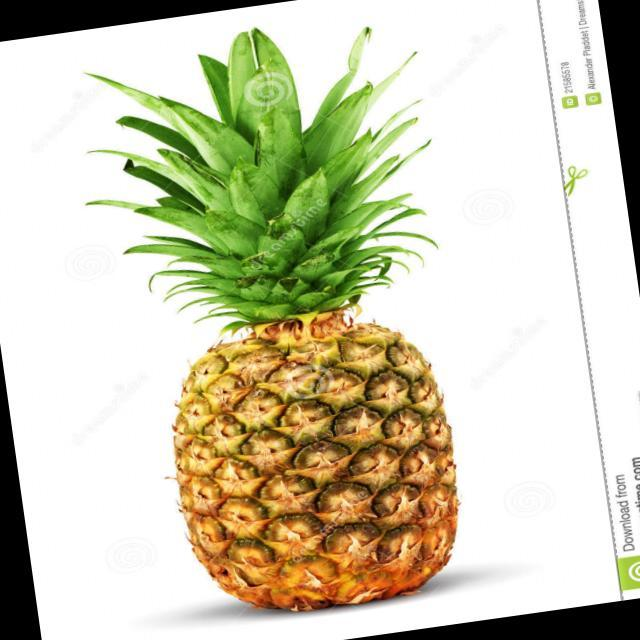PINEAPLE: (108, 21, 472, 624)
